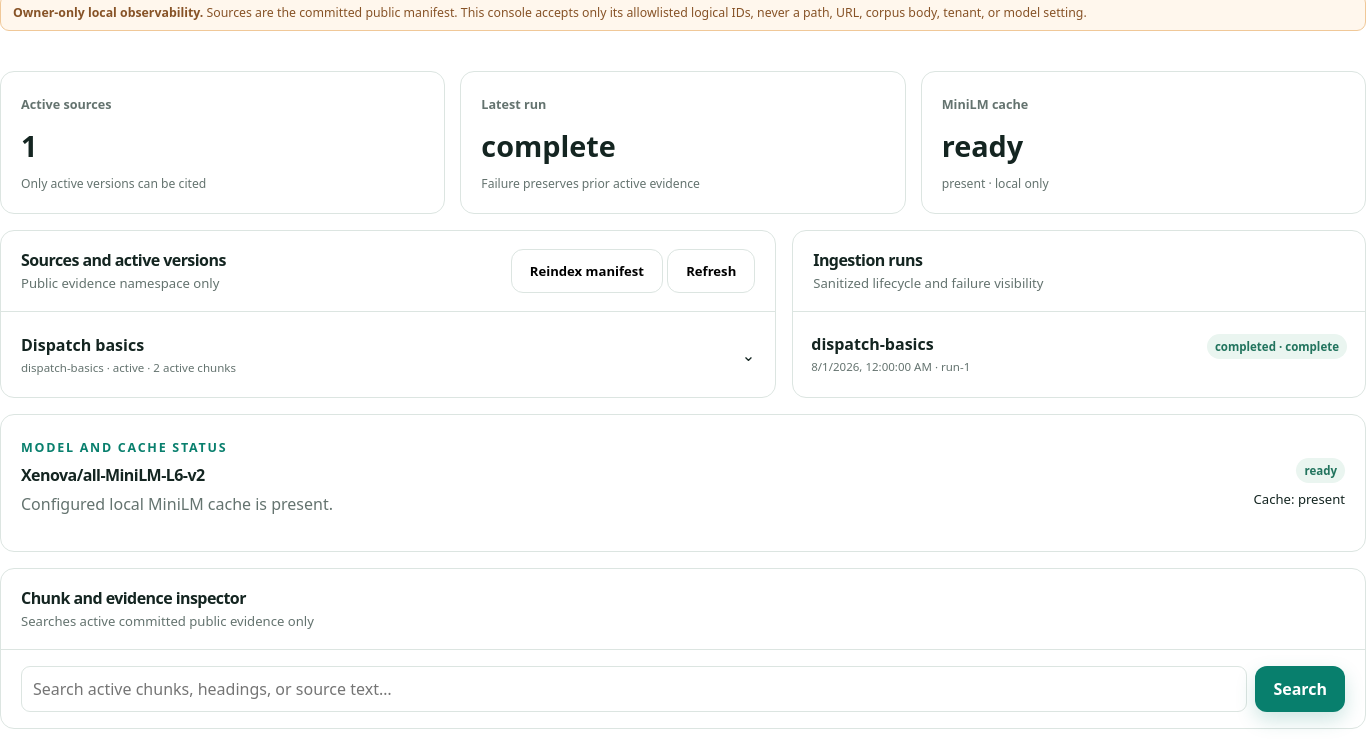
KnowledgeConsole › shows active source/version health and evidence search using the canonical client
expect the heading "Sources and active versions" is shown: met, box [21,249,226,271]
expect the text "Configured local MiniLM cache is present." is shown: met, box [21,493,333,515]
Type "urgent" into the field named "search evidence chunks".
click(634, 689); type("urgent")  # box [21,666,1247,712]
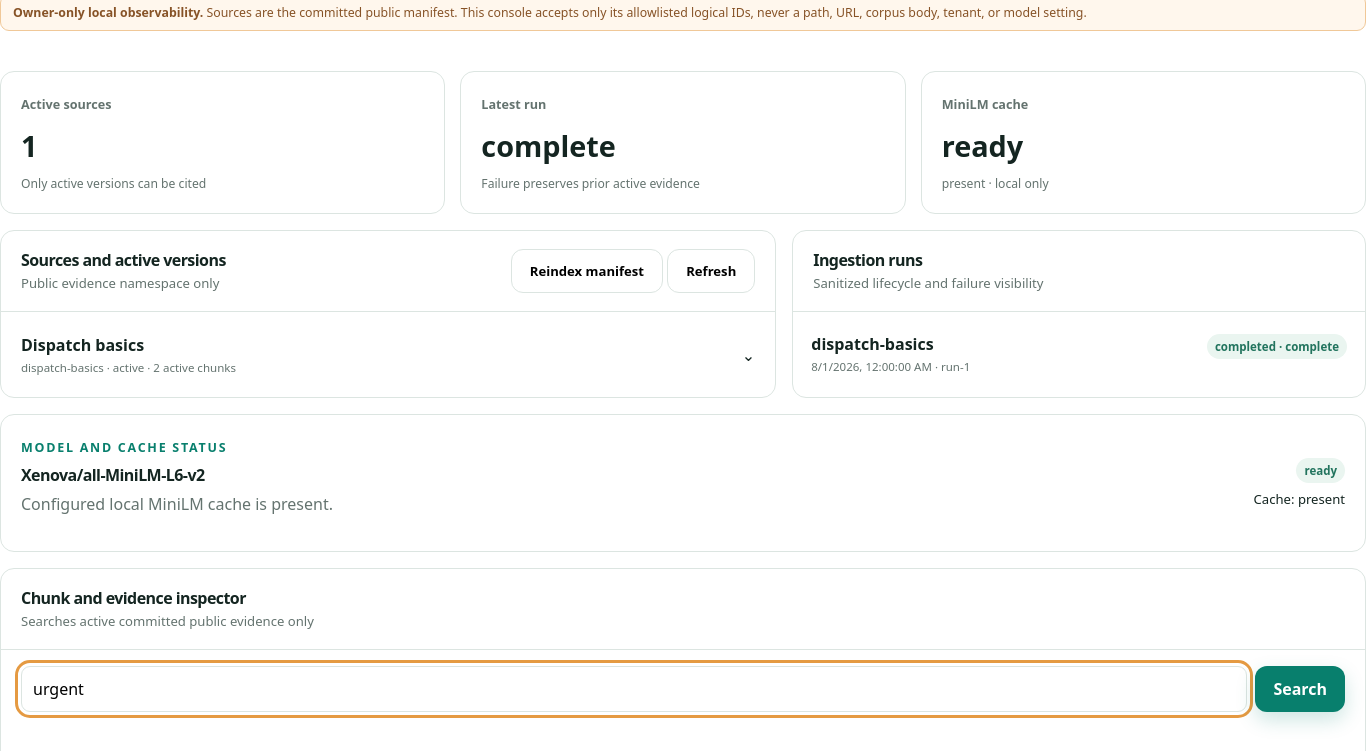
Click the button "Search".
click(1300, 689)  # box [1255,666,1345,712]
(page scrolled)
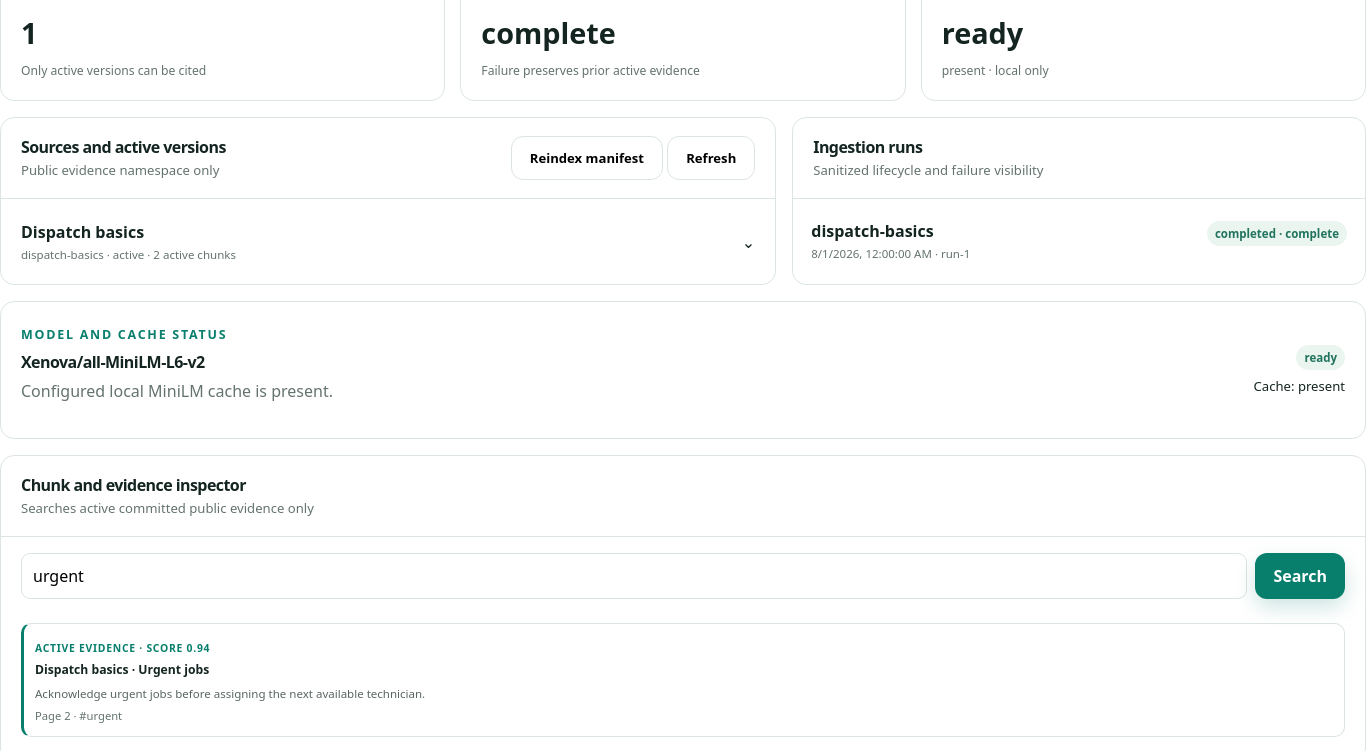
expect the text "Acknowledge urgent jobs" is shown: met, box [35,686,425,701]
